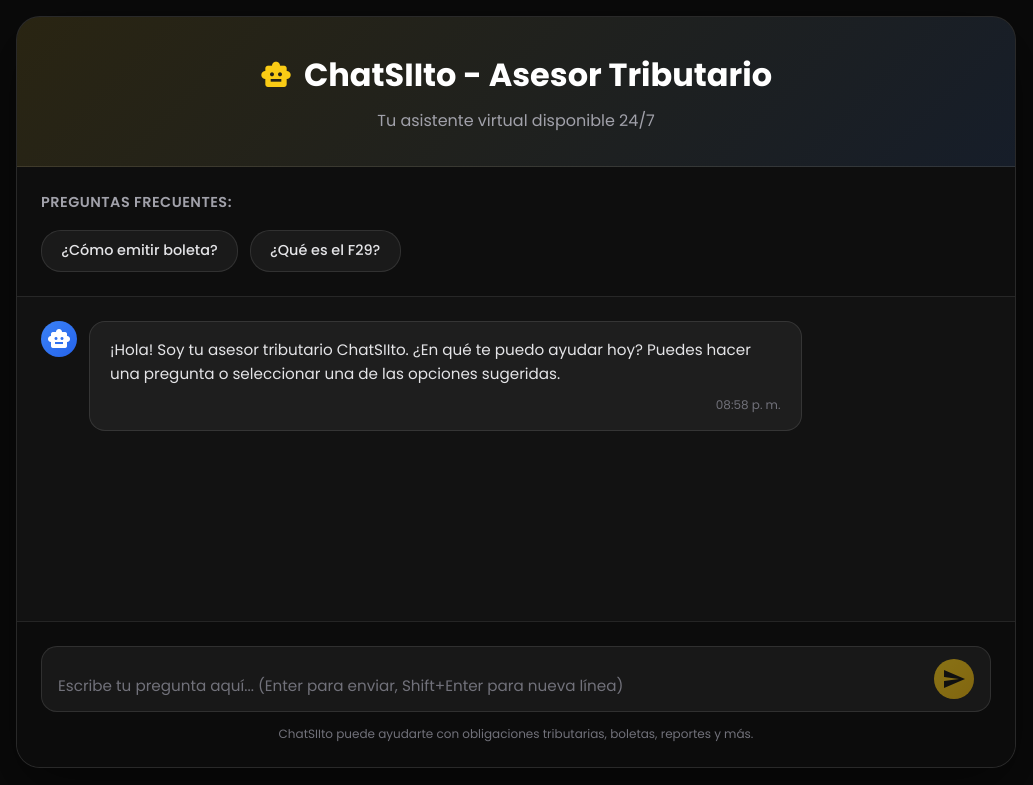
Test: Chatbot › Manejo de mensajes › debe agregar mensaje del usuario al enviar
This screenshot has width=1033, height=785.
Expected: the text "¡Hola! Soy tu asesor tributario ChatSIIto" is shown, x1=110 y1=339 x2=751 y2=384
Replace the text in the text box with placeholder "Escribe tu pregunta aquí" with "Mi pregunta" at (490, 687), box x1=58 y1=675 x2=922 y2=699
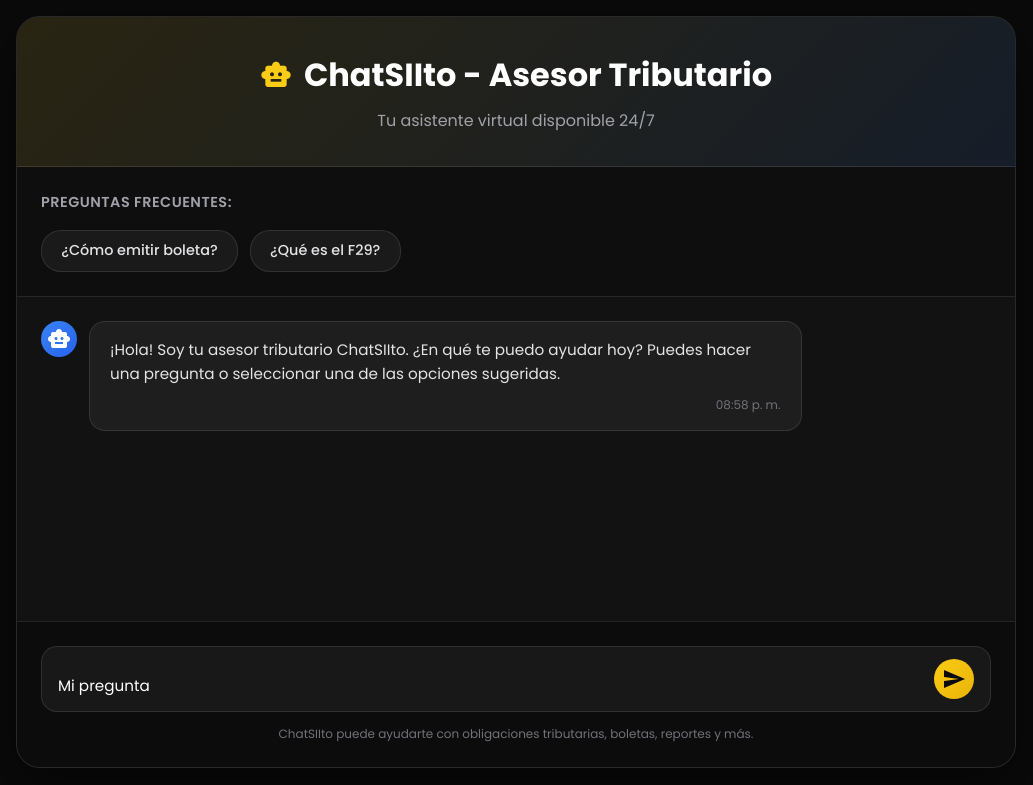
Click the button named "Enviar mensaje".
click(954, 679)  # box x1=934 y1=659 x2=974 y2=699
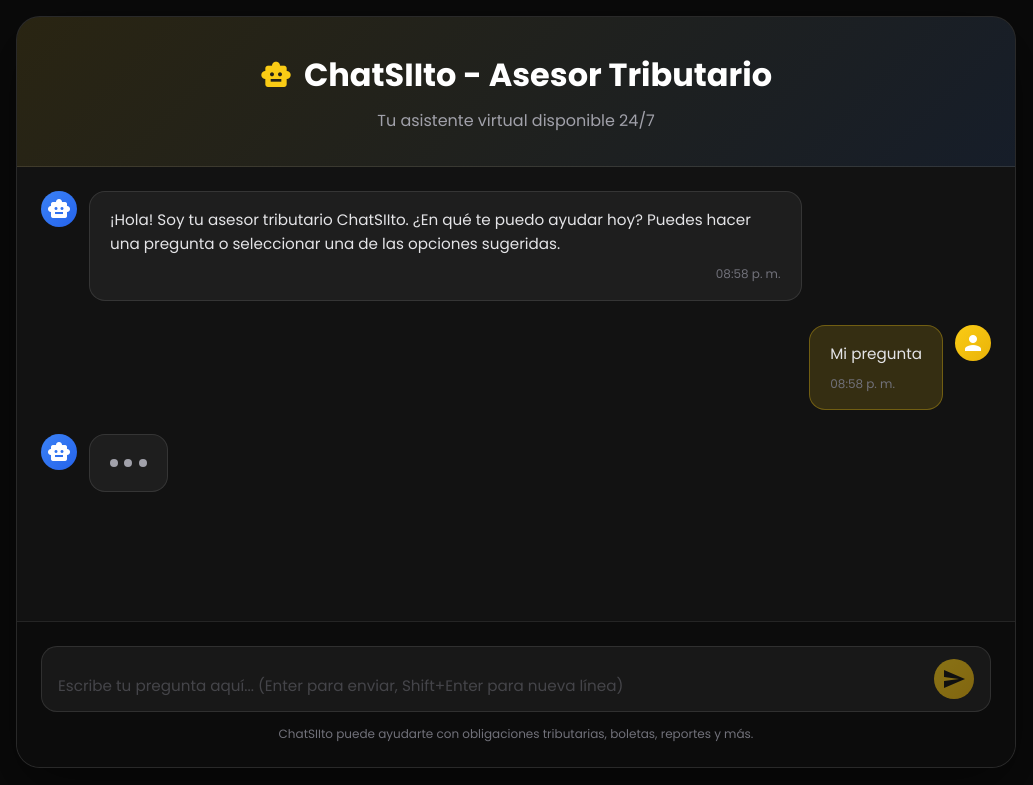
Expected: the text "Mi pregunta" is shown, x1=830 y1=342 x2=922 y2=366
